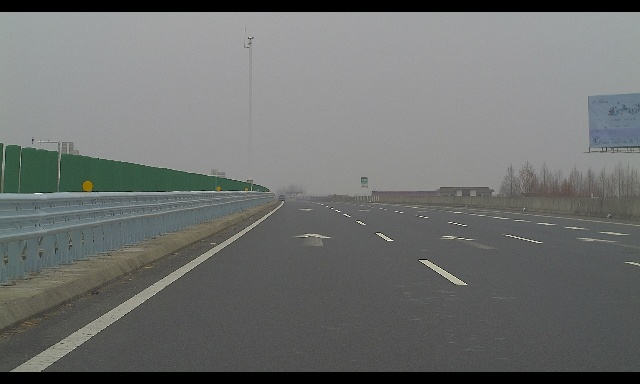car: (278, 195, 286, 201)
